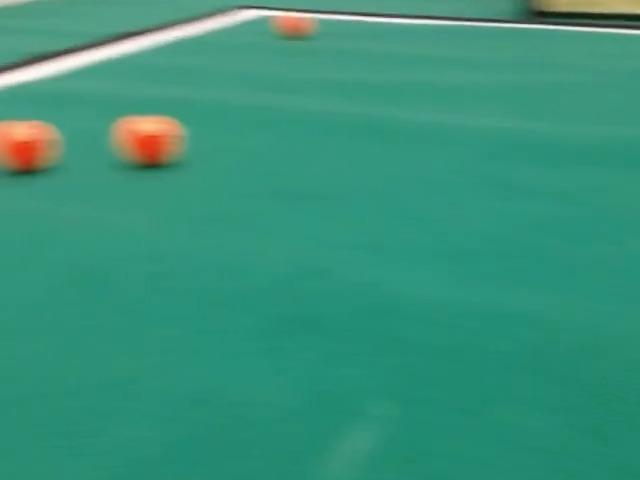Ball: (109, 115, 186, 166), (0, 120, 63, 172)
